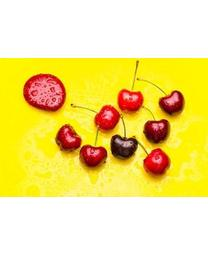cherry: (143, 147, 172, 177), (55, 123, 82, 152), (157, 90, 185, 116), (110, 134, 139, 159), (117, 88, 143, 114), (143, 119, 170, 144), (95, 105, 120, 131), (79, 144, 107, 167)
